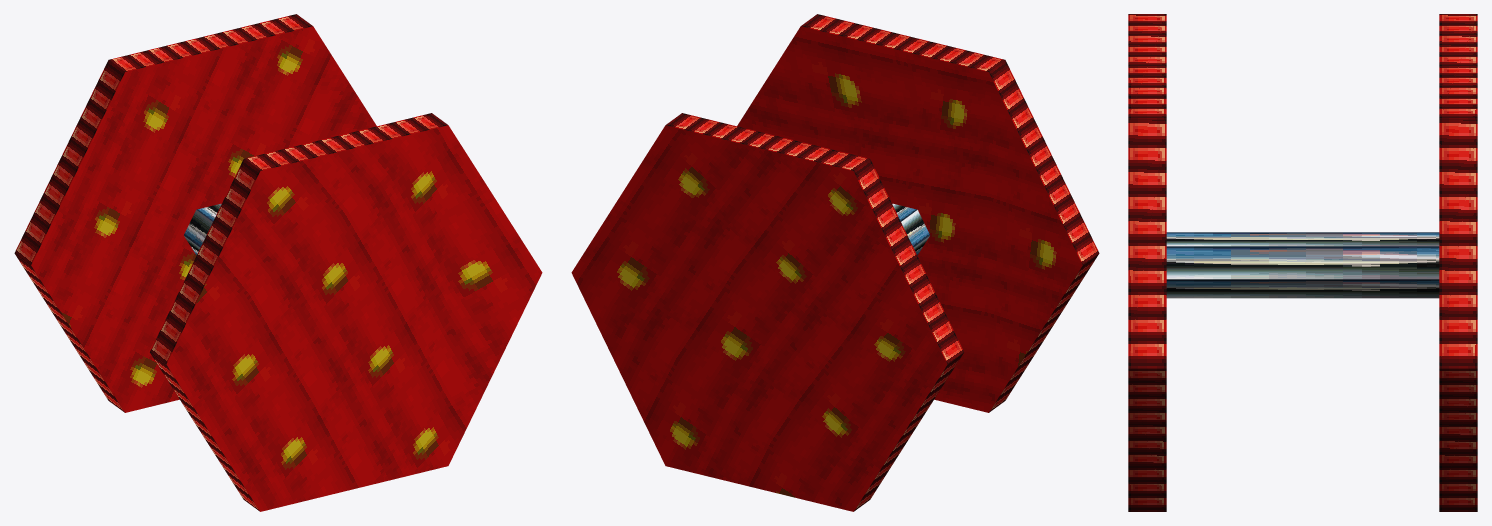
The model's file is ElevatorPlatformRotate.obj.
3 views of the same model, side by side, from view 1: azimuth 30°, elevation 25°; view 2: azimuth 150°, elevation 25°; view 3: azimuth 270°, elevation 25° (orthographic). The views are drawn at different scales.
Parts seen in each view (by area): view 1: Cylinder.001; view 2: Cylinder.001; view 3: Cylinder.001.
Boxes of the visible parts, bbox=[...] form: Cylinder.001: bbox=[14, 14, 542, 511]; Cylinder.001: bbox=[571, 14, 1099, 511]; Cylinder.001: bbox=[1128, 14, 1477, 511].
Size of the model in its own units: 21.85 by 18.93 by 15.29.
Materials: 3 (3 with a texture image).
